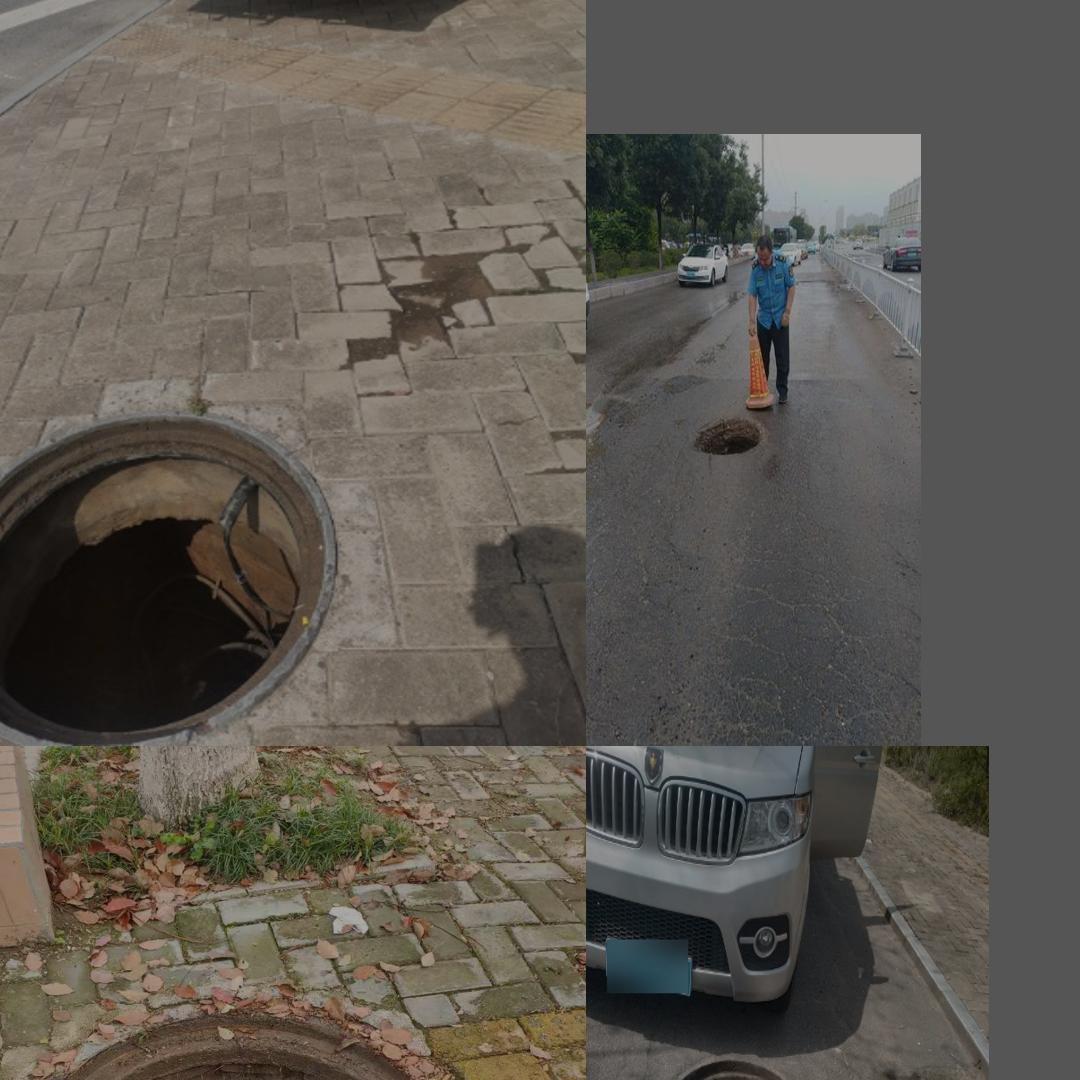lose: (0, 421, 374, 742), (0, 1000, 492, 1080), (653, 1042, 815, 1080), (680, 406, 772, 463)
